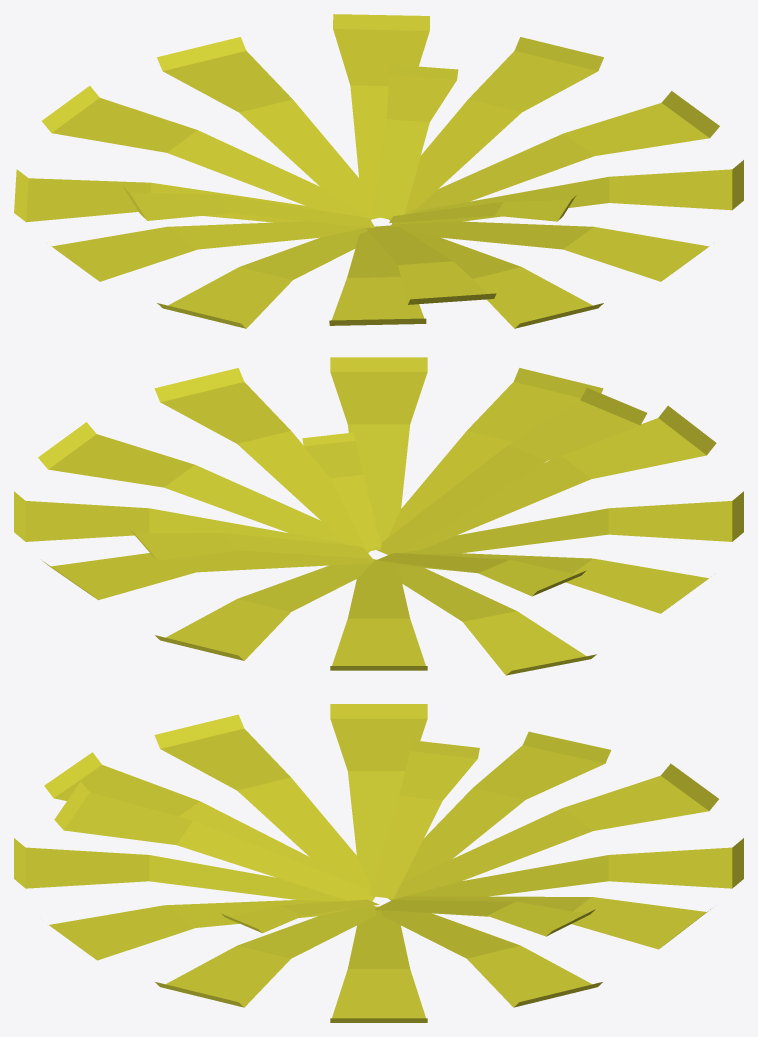
The model's file is Plant_4.fbx.
The picture shows the model from 3 angles, top to bottom: view 1: azimuth 30°, elevation 25°; view 2: azimuth 150°, elevation 25°; view 3: azimuth 270°, elevation 25°; orthographic projection.
Visible parts, largest first — view 1: Plant_4; view 2: Plant_4; view 3: Plant_4.
Part boxes in pixels (x1=…): Plant_4: x1=14, y1=14, x2=743, y2=328; Plant_4: x1=14, y1=357, x2=743, y2=675; Plant_4: x1=14, y1=704, x2=743, y2=1022.
Size of the model in its own units: 234 by 22.17 by 234.
